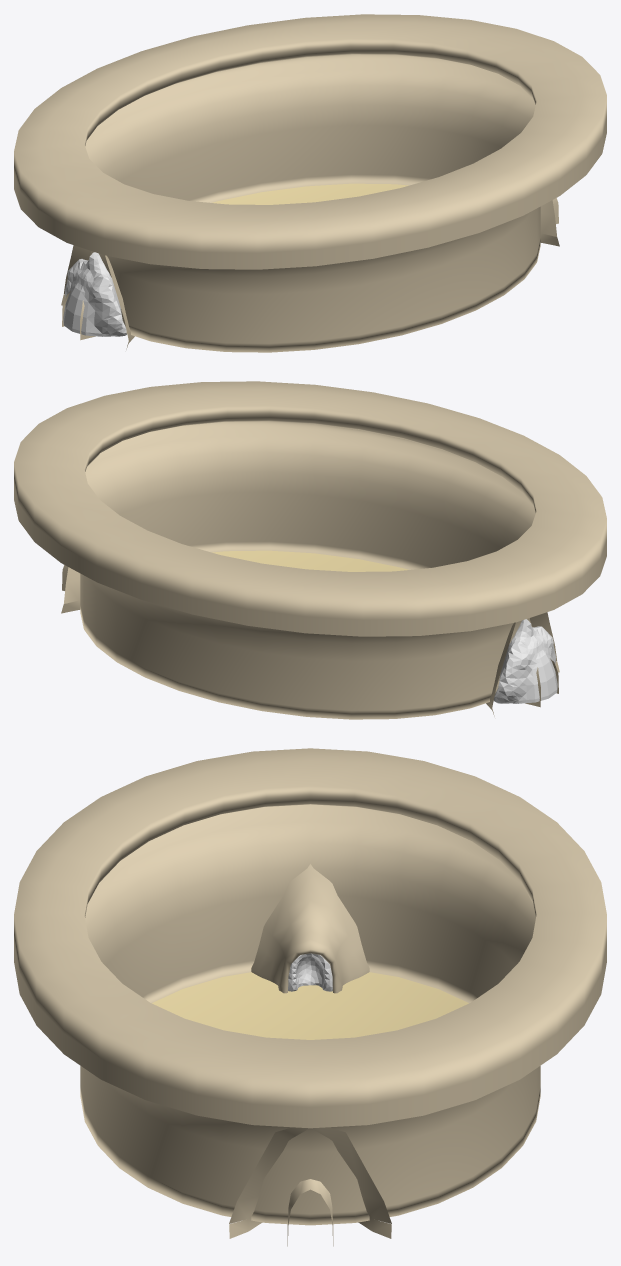
The model's file is arene_1.fbx.
The picture shows the model from 3 angles, top to bottom: view 1: azimuth 30°, elevation 25°; view 2: azimuth 150°, elevation 25°; view 3: azimuth 270°, elevation 25°; orthographic projection. The views are drawn at different scales.
Visible parts, largest first — view 1: Cylinder, Cone, Plane, Plane.001; view 2: Cylinder, Cone, Plane, Plane.001; view 3: Cylinder, Plane, Plane.001, Cone.
Part boxes in pixels (x1=…): Cylinder: x1=14, y1=14, x2=606, y2=352; Cone: x1=63, y1=252, x2=126, y2=336; Plane: x1=61, y1=245, x2=134, y2=349; Plane.001: x1=540, y1=198, x2=559, y2=246; Cylinder: x1=14, y1=381, x2=606, y2=719; Cone: x1=494, y1=619, x2=557, y2=703; Plane: x1=486, y1=612, x2=559, y2=716; Plane.001: x1=61, y1=565, x2=80, y2=613; Cylinder: x1=14, y1=748, x2=606, y2=1225; Plane: x1=251, y1=864, x2=369, y2=993; Plane.001: x1=229, y1=1127, x2=391, y2=1246; Cone: x1=288, y1=953, x2=332, y2=991.
Size of the model in its own units: 4288 by 1161 by 3230.
